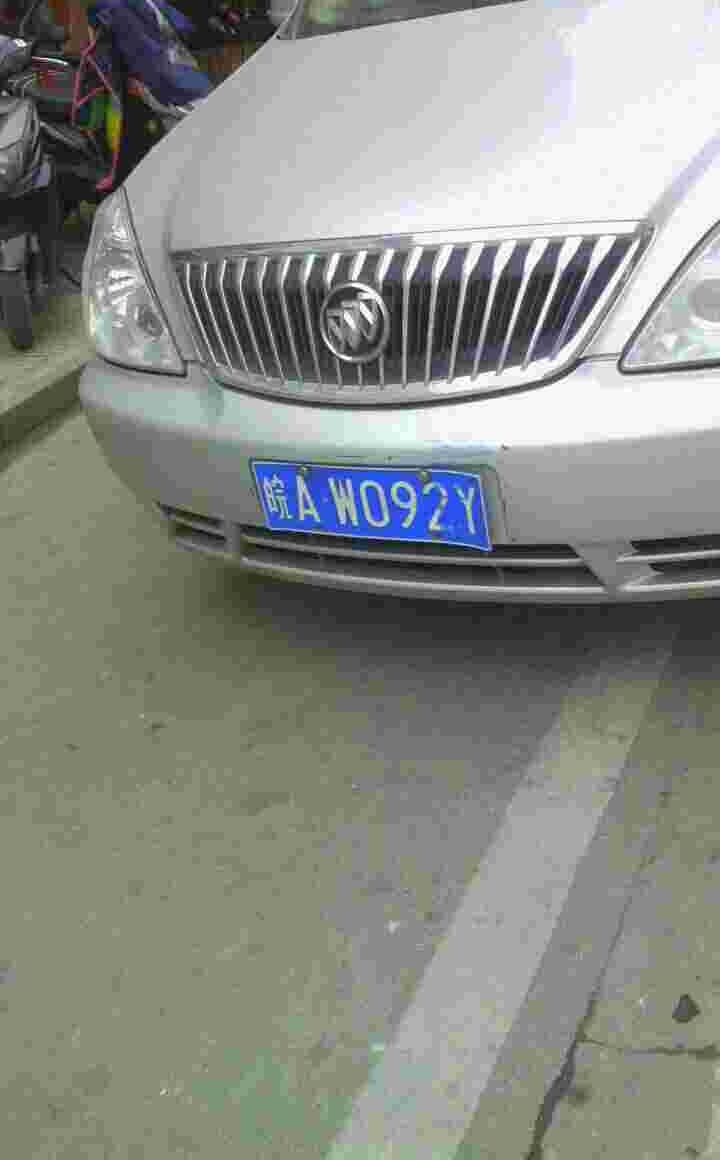license_plate: (255, 468, 505, 554)
